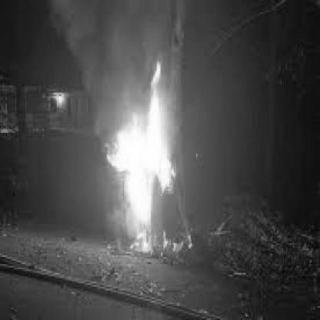Fire: (102, 55, 182, 223)
